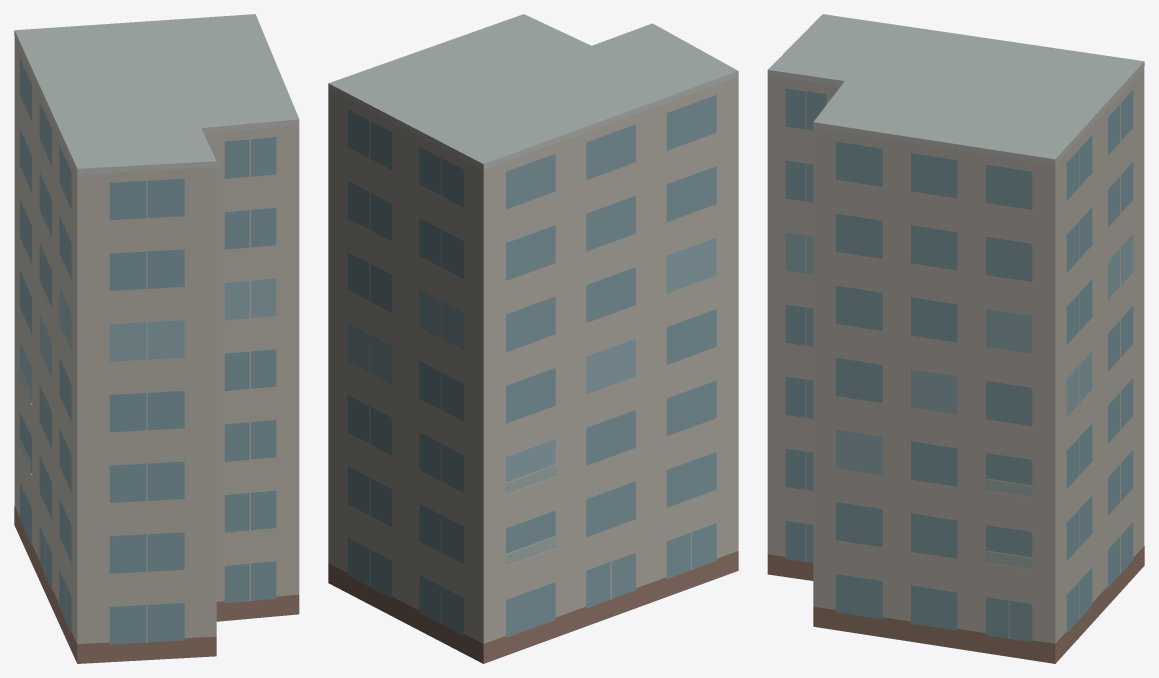
The model's file is survey-upis-32884099.glb.
3 renders of one model, left to right at view 1: azimuth 30°, elevation 25°; view 2: azimuth 150°, elevation 25°; view 3: azimuth 270°, elevation 25°, orthographic.
Parts seen in each view (by area): view 1: survey-upis-32884099.tmp; view 2: survey-upis-32884099.tmp; view 3: survey-upis-32884099.tmp.
Part boxes in pixels (x1,y1,x2,y2): survey-upis-32884099.tmp: (14, 14, 299, 663); survey-upis-32884099.tmp: (328, 14, 738, 663); survey-upis-32884099.tmp: (767, 14, 1144, 663).
Size of the model in its own units: 13.05 by 21.1 by 14.29.
